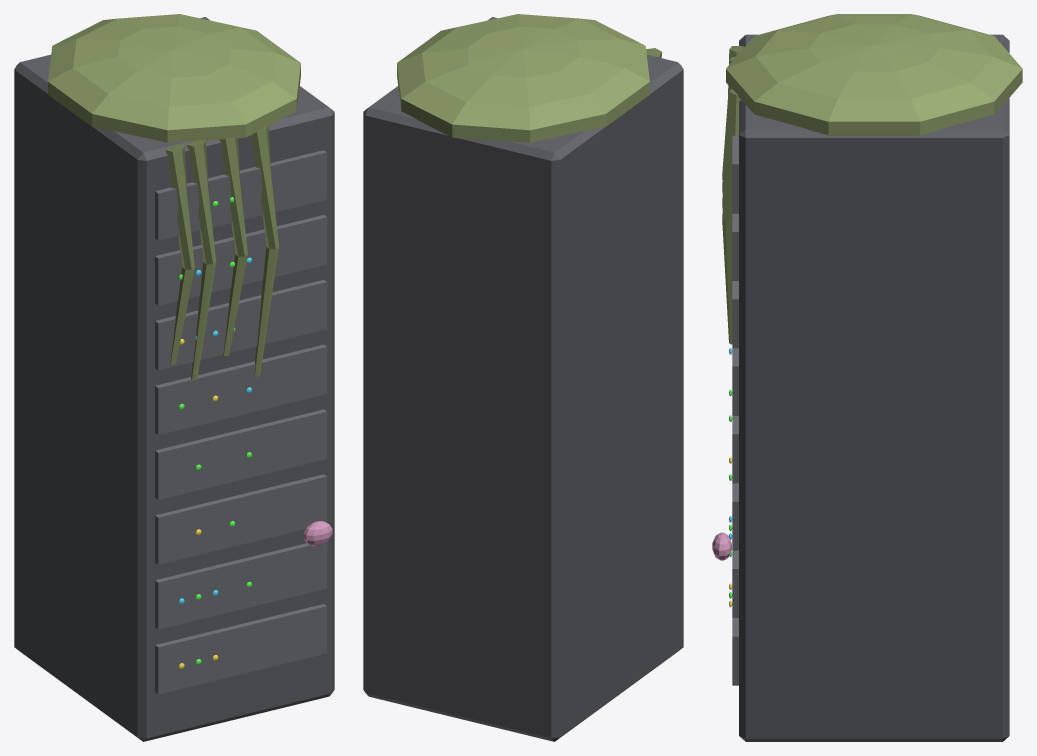
The model's file is MossyServerRack.fbx.
3 views of the same model, side by side, from view 1: azimuth 30°, elevation 25°; view 2: azimuth 150°, elevation 25°; view 3: azimuth 270°, elevation 25° (orthographic). The views are drawn at different scales.
Visible parts, largest first — view 1: Prop_MossyServerRack; view 2: Prop_MossyServerRack; view 3: Prop_MossyServerRack.
Boxes of the visible parts, left/top/right/bottom form: Prop_MossyServerRack: left=14, top=14, right=334, bottom=741; Prop_MossyServerRack: left=363, top=14, right=683, bottom=741; Prop_MossyServerRack: left=712, top=14, right=1022, bottom=741.
Bounding box in the file's own units: 0.7418 × 2.12 × 0.918.
